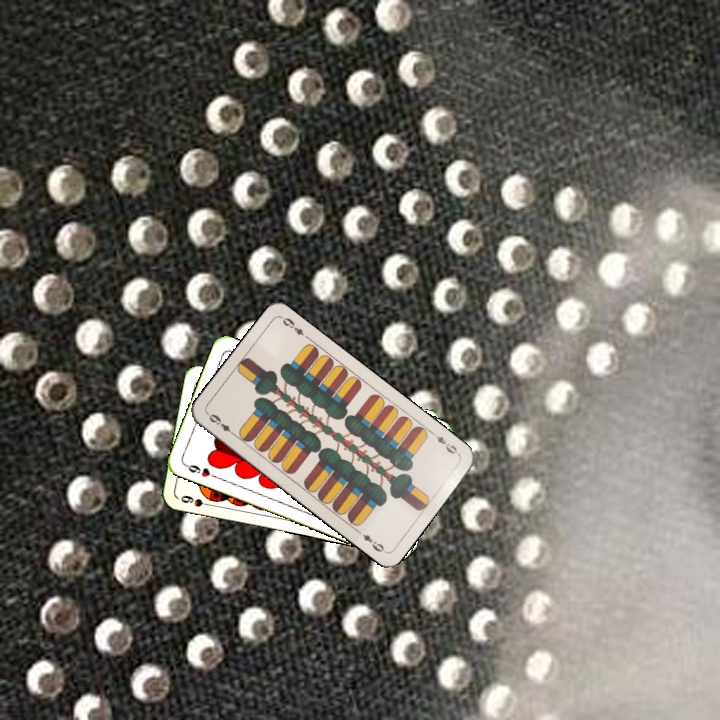E9: (427, 428, 462, 457), (204, 410, 238, 439)
H9: (181, 460, 220, 481)
S9: (177, 491, 216, 509)
